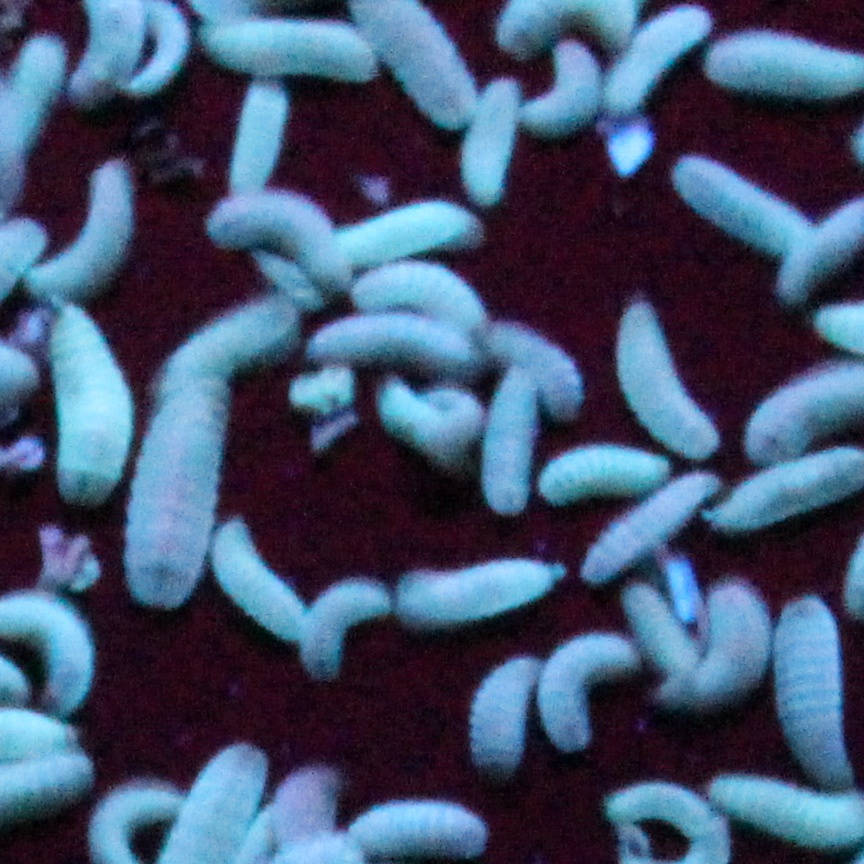larve: (134, 356, 222, 614), (615, 292, 725, 458), (47, 307, 139, 499), (29, 165, 144, 309), (770, 597, 854, 783), (588, 473, 720, 582), (208, 197, 354, 290), (666, 590, 768, 719), (535, 630, 639, 752), (673, 158, 810, 248), (198, 17, 386, 82), (168, 304, 298, 395), (215, 519, 308, 646), (598, 12, 710, 112), (395, 556, 556, 624), (347, 791, 486, 864), (483, 314, 583, 414), (339, 202, 473, 270), (529, 441, 671, 504), (515, 43, 605, 141), (378, 378, 481, 463), (303, 317, 473, 368), (303, 582, 383, 690), (354, 258, 486, 321), (227, 78, 288, 214), (474, 656, 537, 785), (262, 764, 345, 856), (464, 70, 520, 202), (486, 368, 532, 514), (622, 587, 698, 673), (242, 248, 325, 312)
